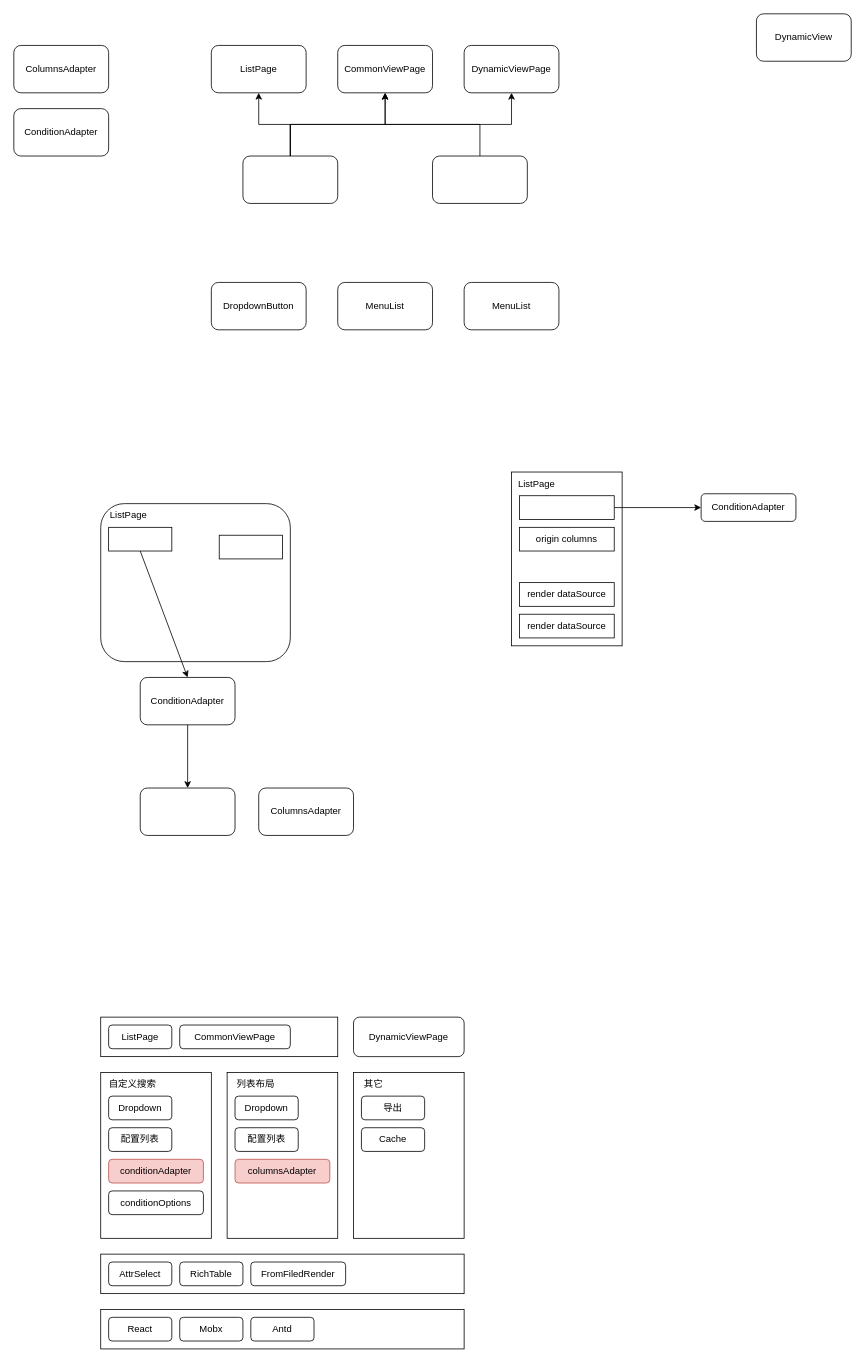
Some shapes in this 865 by 1363 pixel diagram are drawn without their labels. Each missing label, with the centre of its shape:
"columns" belongs at point (250, 546).
"condition" belongs at point (140, 539).
"origin condition" belongs at point (566, 507).
"ViewCondition" belongs at point (479, 179).
"ViewStyle" belongs at point (290, 179).
"搜索数据" belongs at point (187, 811).
